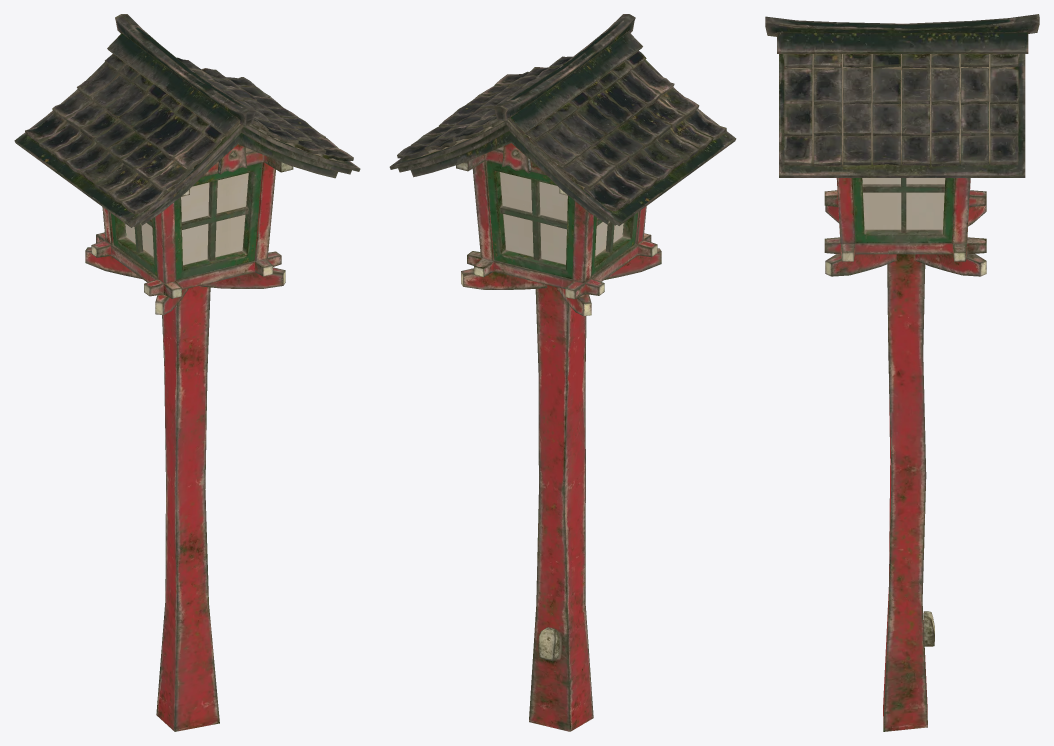
Rendered from lantern.glb.
The picture shows the model from 3 angles, left to right: view 1: azimuth 30°, elevation 25°; view 2: azimuth 150°, elevation 25°; view 3: azimuth 270°, elevation 25°; orthographic projection. The views are drawn at different scales.
Parts seen in each view (by area): view 1: Japanese Lantern; view 2: Japanese Lantern; view 3: Japanese Lantern.
Boxes of the visible parts, <box> form: Japanese Lantern: <box>14,14,360,731</box>; Japanese Lantern: <box>389,14,736,731</box>; Japanese Lantern: <box>765,14,1039,731</box>.
Bounding box in the file's own units: 0.548 × 1.51 × 0.5325.
1 material, 1 textured.
